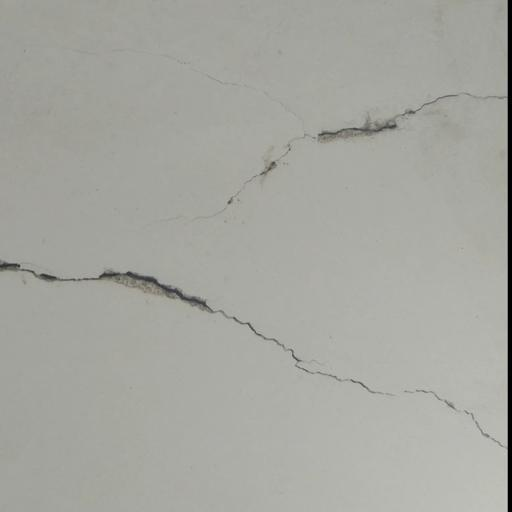major_crack: (0, 243, 506, 455), (178, 46, 509, 230)
